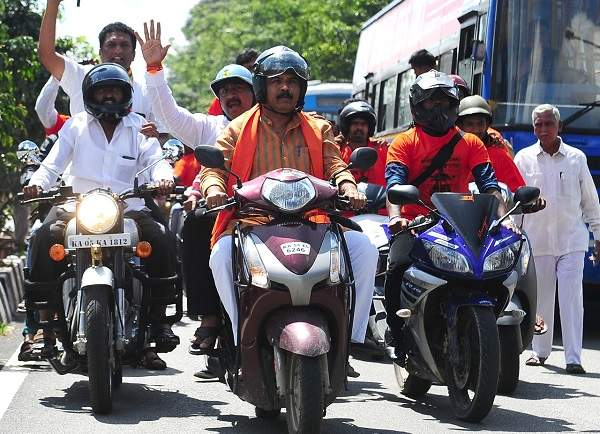helmet: (250, 47, 310, 110), (411, 72, 471, 135), (84, 60, 136, 119)
